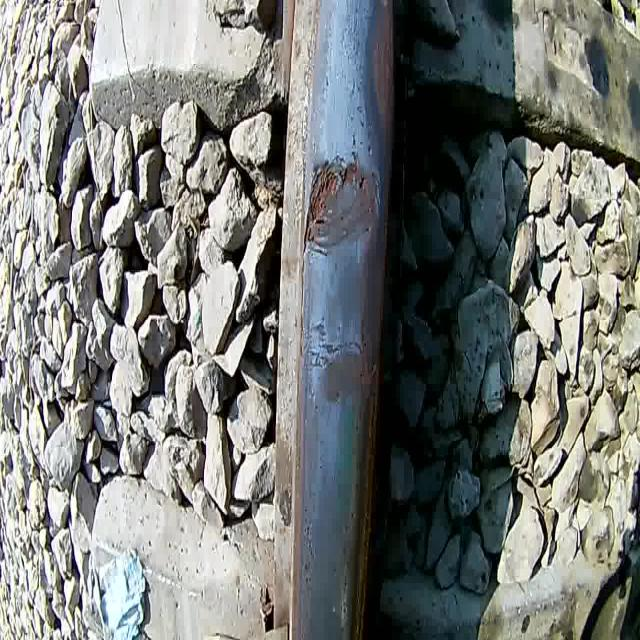Spallings: (301, 155, 338, 256), (338, 158, 380, 196)
Squats: (296, 154, 384, 264), (305, 318, 381, 418)
